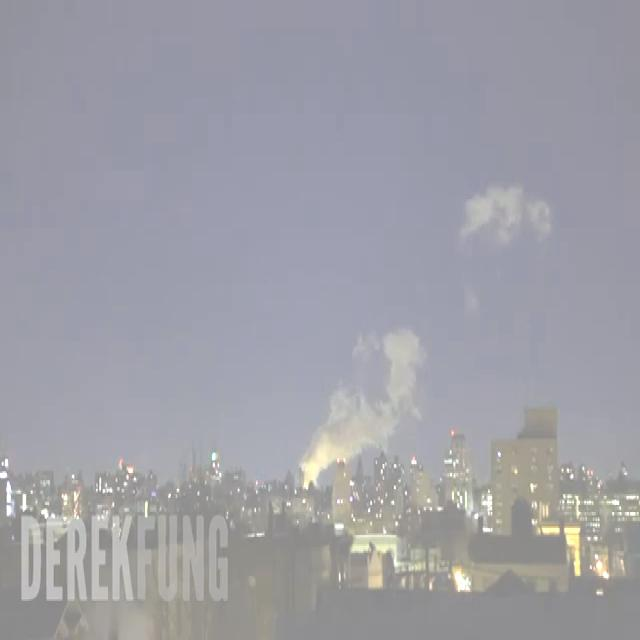smoke: (299, 327, 425, 478)
